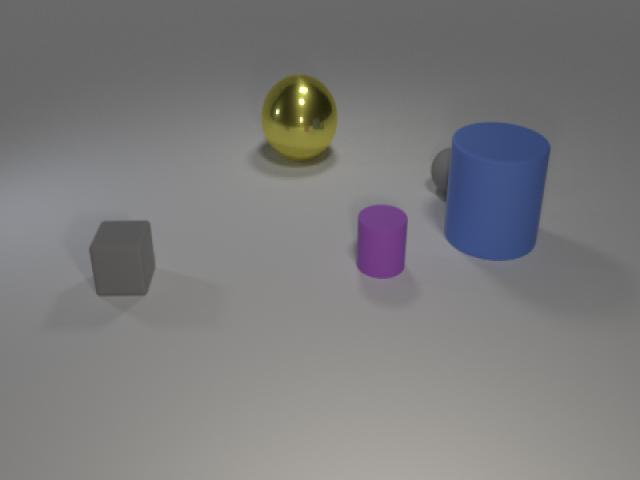cylinder: (437, 116, 555, 266), (352, 199, 413, 283)
round ball: (256, 70, 343, 167), (427, 142, 475, 203)
